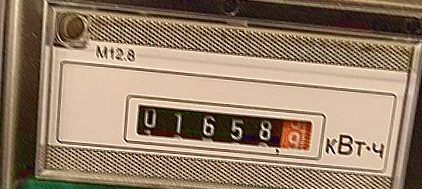0: (142, 105, 157, 128)
1: (172, 110, 184, 133)
5: (229, 116, 244, 140)
6: (200, 113, 215, 136)
8: (257, 117, 272, 140)
9: (284, 128, 299, 150)
screen: (116, 88, 332, 165)
